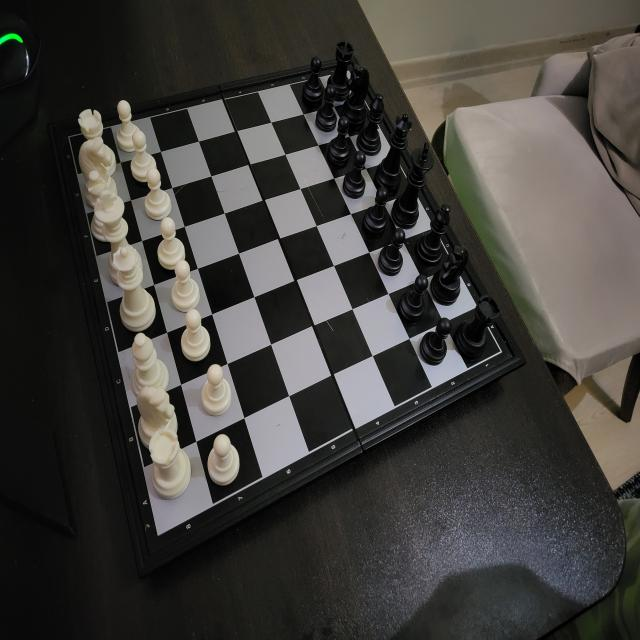black-bishop: (415, 202, 453, 265), (356, 92, 385, 156)
black-king: (392, 140, 436, 228)
black-knight: (430, 245, 470, 308), (342, 62, 369, 130)
black-pawn: (398, 272, 430, 326), (419, 316, 453, 366), (326, 115, 352, 169), (378, 228, 406, 278), (363, 185, 389, 238), (342, 148, 367, 201), (315, 83, 337, 134), (302, 56, 324, 106)
black-queen: (374, 112, 413, 196)
black-rook: (453, 293, 502, 359), (327, 40, 355, 100)
chess-board: (56, 65, 511, 552)
white-bishop: (131, 332, 170, 396), (86, 170, 111, 230)
white-king: (94, 189, 146, 285)
white-knight: (136, 385, 181, 448), (78, 136, 120, 197)
white-pawn: (207, 433, 241, 488), (179, 307, 211, 363), (128, 129, 160, 184), (170, 259, 202, 313), (200, 364, 232, 416), (114, 99, 145, 152), (156, 217, 186, 270), (144, 166, 171, 220)
white-queen: (113, 245, 157, 332)
white-rook: (148, 427, 192, 501), (78, 108, 116, 162)
